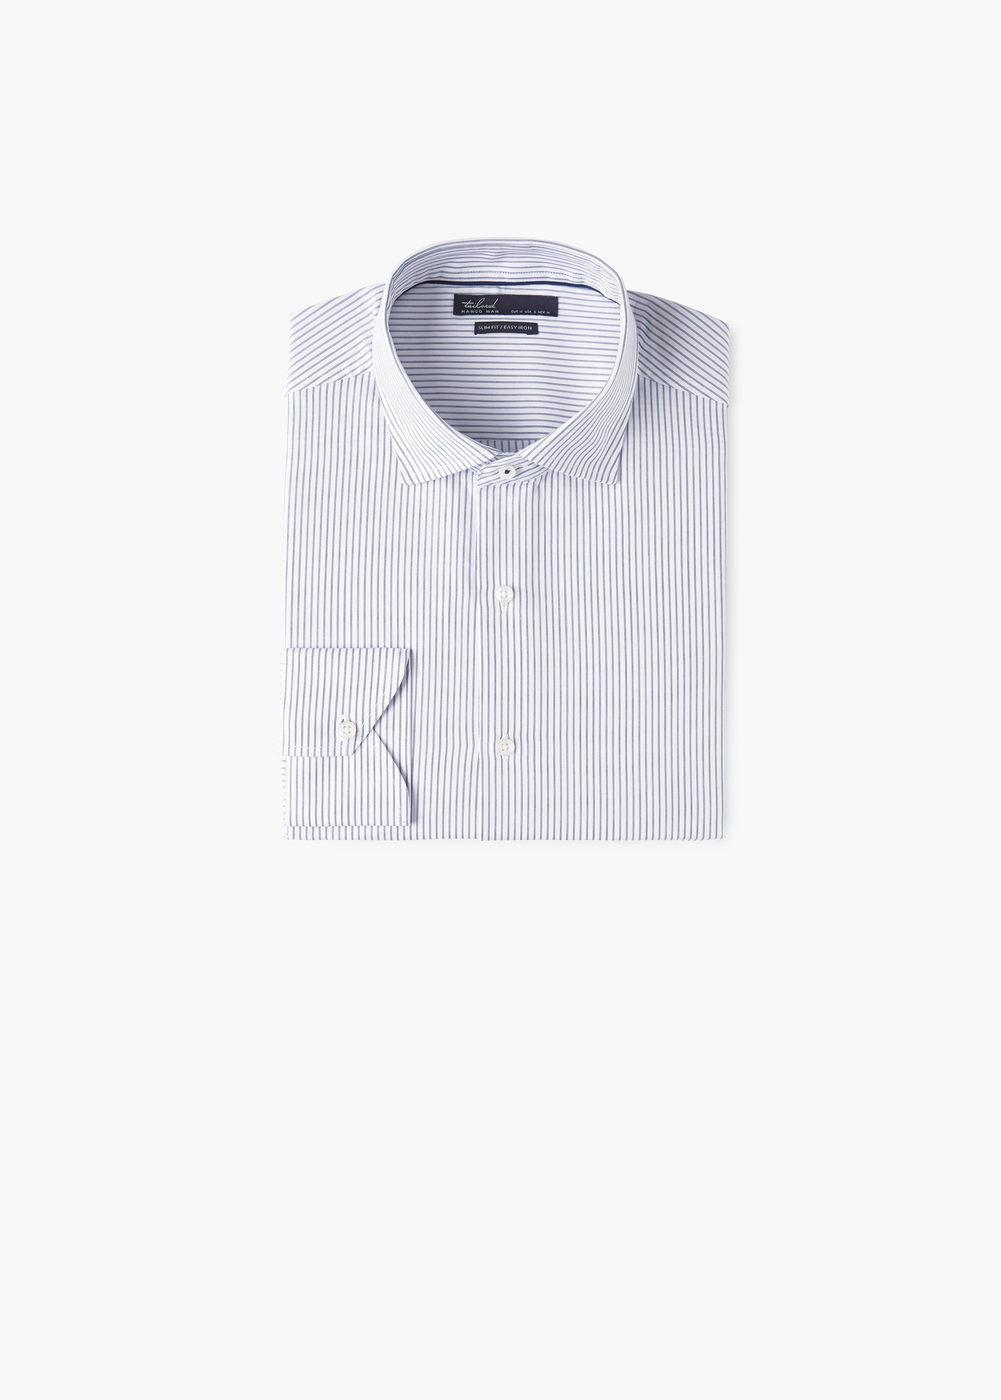teeshirt: (242, 228, 740, 867)
